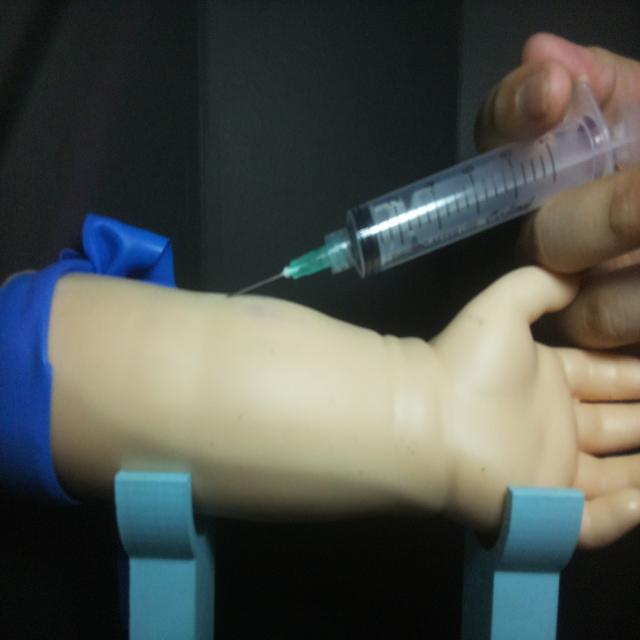20deg: (224, 73, 632, 302)
